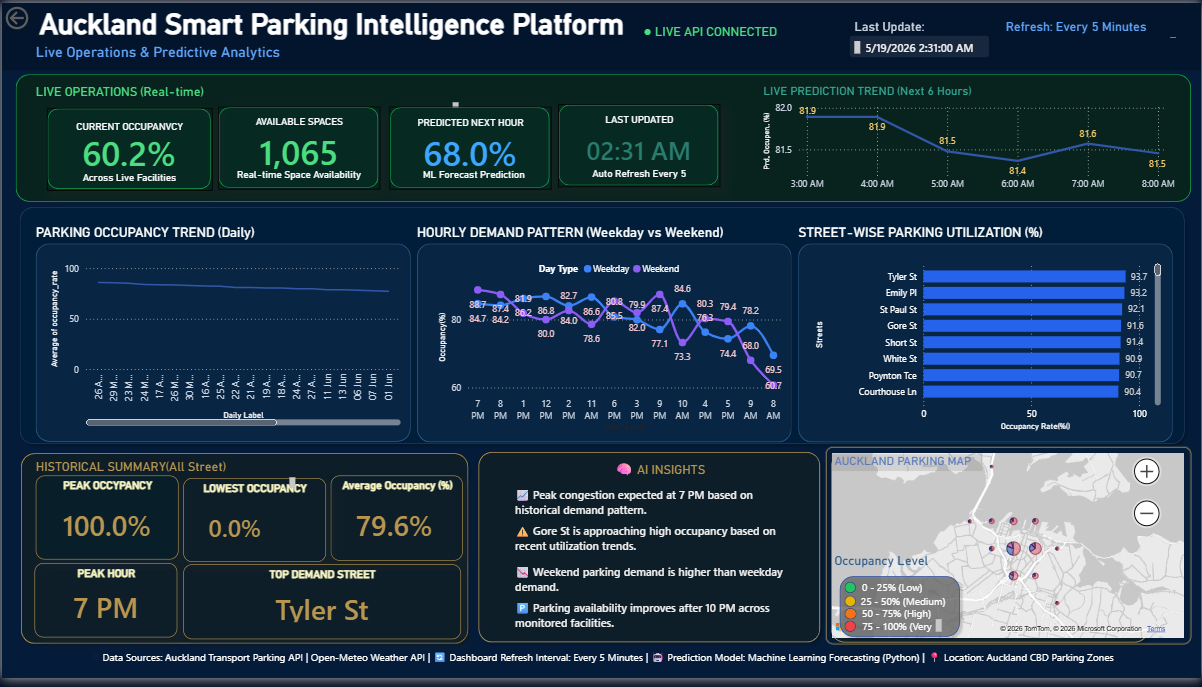

Layout of this report page (visuals, bound fields, positions):
{"tool":"powerbi","page":{"name":"Live ","canvas":[1600,900],"ordinal":0},"visuals":[{"type":"shape","box":[18.6,593.2,610.2,267.8],"z":0},{"type":"group","id":"g1","title":"Group 3","box":[1123.4,766.1,134.1,29.4],"z":0,"group":"g10"},{"type":"cardVisual","title":"Average Occupancy (%)","fields":{"Data":["parking_powerbi_dashboard.Average Occupancy (%)"]},"box":[439,630.5,176.3,113.6],"z":1000},{"type":"group","id":"g2","title":"Group 4","box":[1123.2,783.9,150.4,29.4],"z":1000,"group":"g10"},{"type":"cardVisual","title":"PEAK OCCYPANCY","fields":{"Data":["parking_powerbi_dashboard.Peak Occupancy (%)"]},"box":[44.6,630.1,190.4,112],"z":2000},{"type":"group","id":"g3","title":"Group 5","box":[1123.2,818,134.1,29.4],"z":2000,"group":"g10"},{"type":"cardVisual","title":"LOWEST OCCUPANCY","fields":{"Data":["parking_powerbi_dashboard.Lowest Occupancy (%)"]},"box":[241.8,632.9,190.2,112],"z":3000},{"type":"group","id":"g4","title":"Group 6","box":[1123.2,801.6,142.4,29.4],"z":3000,"group":"g10"},{"type":"shape","box":[17.5,94.7,1567,170],"z":4000},{"type":"textbox","title":"LIVE OPERATIONS (Real-time)","box":[40,108,574,43.1],"z":5000},{"type":"shape","box":[0,0,1600,90],"z":6000},{"type":"textbox","box":[2.2,859,1597.8,41.5],"z":7000},{"type":"textbox","title":"● LIVE API CONNECTED","box":[850.1,26.3,299.7,49.1],"z":8000},{"type":"cardVisual","fields":{"Data":["Min(parking_powerbi_dashboard.last_updated)"]},"box":[1113.1,26.3,220.9,63.1],"z":9000},{"type":"textbox","title":"Auckland Smart Parking Intelligence Platform","box":[1.9,5.6,876,48.8],"z":10000},{"type":"textbox","title":"Live Operations & Predictive Analytics","box":[40,54.4,390.2,28.1],"z":11000},{"type":"textbox","title":"Last Update:","box":[1132.3,21,164.8,26.3],"z":12000},{"type":"textbox","title":"Refresh: Every 5 Minutes","box":[1333.9,21,236.6,29.8],"z":13000},{"type":"actionButton","box":[0,0,100,40],"z":14000},{"type":"shape","box":[288.8,137.8,215.6,110.4],"z":15000},{"type":"cardVisual","title":"Current Occupancy","fields":{"Data":["parking_powerbi_dashboard.Live Available Spaces Display"]},"box":[292,145.3,208.2,101],"z":16000},{"type":"group","id":"g5","title":"Group 2","box":[59.6,140.1,220.5,110.3],"z":17000},{"type":"textbox","title":"Real-time Space Availability","box":[298.7,222.2,195.6,16],"z":18000},{"type":"group","id":"g6","title":"Group 2","box":[516,138.1,215.6,110.4],"z":19000},{"type":"textbox","title":"AVAILABLE SPACES","box":[311.4,150.4,169.4,22.4],"z":20000},{"type":"group","id":"g7","title":"Group 2","box":[741.7,135.4,215.3,111.2],"z":21000},{"type":"lineChart","title":"LIVE PREDICTION TREND (Next 6 Hours)","fields":{"Y":["Avg(parking_powerbi_dashboard.predicted_occupancy_rate)"],"Category":["parking_powerbi_dashboard.timestamp"]},"box":[1010.7,108,558.7,150.7],"z":22000},{"type":"shape","box":[17.5,264.5,1567.2,330.1],"z":23000},{"type":"shape","title":"PARKING OCCUPANCY TREND (Daily)","box":[45,295,500,290.2],"z":24000},{"type":"lineChart","fields":{"Category":["parking_powerbi_dashboard.Daily Label"],"Y":["Avg(parking_powerbi_dashboard.occupancy_rate)"]},"box":[60,340,476.7,228.3],"z":25000},{"type":"shape","title":"HOURLY DEMAND PATTERN (Weekday vs Weekend)","box":[553.9,294.5,499.6,291],"z":26000},{"type":"lineChart","fields":{"Y":["Avg(parking_powerbi_dashboard.occupancy_rate)"],"Series":["parking_powerbi_dashboard.Day Type"],"Category":["parking_powerbi_dashboard.Hour Label"]},"box":[576.2,335.7,470.2,240.5],"z":27000},{"type":"shape","title":"STREET-WISE PARKING UTILIZATION (%)","box":[1062.2,294.5,499.6,291],"z":28000},{"type":"shape","box":[741.7,135.4,215.6,110.4],"z":29000,"group":"g7"},{"type":"shape","box":[516,138.1,215.6,110.4],"z":29000,"group":"g6"},{"type":"shape","box":[59.6,140.1,220.5,110.3],"z":29000,"group":"g5"},{"type":"clusteredBarChart","fields":{"Y":["Avg(parking_powerbi_dashboard.occupancy_rate)"],"Category":["parking_powerbi_dashboard.street"]},"box":[1079.8,335.7,470.2,240.5],"z":29000},{"type":"shape","box":[1098.3,593.2,437.3,266.3],"z":29000,"group":"g8"},{"type":"group","id":"g8","title":"Group 1","box":[1098.3,593.2,437.3,267.8],"z":30000},{"type":"cardVisual","title":"Current Occupancy","fields":{"Data":["parking_powerbi_dashboard.Live Last Updated Display"]},"box":[744.9,143,208.2,101],"z":31000,"group":"g7"},{"type":"cardVisual","title":"Current Occupancy","fields":{"Data":["parking_powerbi_dashboard.Live Predicted Next Hour Display"]},"box":[519.2,145.7,208.2,101],"z":31000,"group":"g6"},{"type":"cardVisual","title":"Current Occupancy","fields":{"Data":["parking_powerbi_dashboard.Live Current Occupancy Display"]},"box":[62.9,147.6,212.9,100.9],"z":31000,"group":"g5"},{"type":"group","id":"g9","title":"Group 9","box":[1098.4,591.8,487.1,263.5],"z":31000},{"type":"map","fields":{"Y":["parking_powerbi_dashboard.lat"],"X":["parking_powerbi_dashboard.lon"],"Size":["Sum(parking_powerbi_dashboard.occupancy_rate)"],"Series":["parking_powerbi_dashboard.Demand Category All"]},"box":[1098.4,591.8,487.1,263.5],"z":31000,"group":"g9"},{"type":"slicer","fields":{"Values":["parking_powerbi_dashboard.Demand Category"]},"box":[1352.8,612.5,168.3,191.1],"z":31000,"group":"g8"},{"type":"textbox","title":"AUCKLAND PARKING MAP","box":[1105.5,601.2,202.4,22.4],"z":32000,"group":"g9"},{"type":"textbox","title":"HISTORICAL SUMMARY(All Street)","box":[40.2,607.9,356.1,43.2],"z":32000},{"type":"slicer","fields":{"Values":["parking_powerbi_dashboard.street"]},"box":[1116.6,611.3,216.9,231.3],"z":32000,"group":"g8"},{"type":"textbox","title":"Auto Refresh Every 5 Minutes","box":[764.3,220.5,169.4,14.3],"z":33000,"group":"g7"},{"type":"textbox","title":"ML Forecast Prediction","box":[535.6,221.7,184.9,19.6],"z":33000,"group":"g6"},{"type":"textbox","title":"Across Live Facilities","box":[82.7,225.1,173.3,14.3],"z":33000,"group":"g5"},{"type":"shape","title":"Occupancy Level","box":[1110.3,734.2,174.1,118.8],"z":33000,"group":"g11"},{"type":"cardVisual","title":"PEAK HOUR","fields":{"Data":["parking_powerbi_dashboard.Peak Hour Display"]},"box":[42.7,746.7,190.2,99.6],"z":33000},{"type":"cardVisual","title":"TOP DEMAND STREET","fields":{"Data":["parking_powerbi_dashboard.Top Demand Street"]},"box":[241.8,748.4,370,100],"z":34000},{"type":"shape","box":[1123.4,772,15.3,15.3],"z":34000,"group":"g1"},{"type":"shape","box":[1123.2,789.8,15.3,15.3],"z":34000,"group":"g2"},{"type":"shape","box":[628.8,591.5,469.5,267.8],"z":35000},{"type":"shape","box":[1123.2,807.5,16.2,15.3],"z":35000,"group":"g4"},{"type":"textbox","title":"LAST UPDATED","box":[764.3,148.1,169.4,22.4],"z":35001,"group":"g7"},{"type":"textbox","title":"PREDICTED NEXT HOUR","box":[538.6,150.8,169.4,22.4],"z":35001,"group":"g6"},{"type":"textbox","title":"CURRENT OCCUPANVCY","box":[74.7,157.4,190.5,20.8],"z":35001,"group":"g5"},{"type":"textbox","title":"🧠 AI INSIGHTS","box":[654.2,608.5,444.1,22],"z":36000},{"type":"shape","box":[1123.2,823.9,15.3,15.3],"z":36000,"group":"g3"},{"type":"cardVisual","fields":{"Data":["parking_powerbi_dashboard.AI Peak Congestion Insight"]},"box":[654.3,602.5,425.9,124.7],"z":37000},{"type":"cardVisual","fields":{"Data":["parking_powerbi_dashboard.AI Top Street Insight"]},"box":[654.3,650.6,425.9,125.9],"z":38000},{"type":"textbox","box":[1141,766.1,116.5,29.4],"z":38000,"group":"g1"},{"type":"textbox","box":[1140.7,783.9,132.9,29.4],"z":38000,"group":"g2"},{"type":"cardVisual","fields":{"Data":["parking_powerbi_dashboard.AI Weekend Insight"]},"box":[655.6,703.7,425.9,127.2],"z":39000},{"type":"textbox","box":[1141.9,801.6,123.6,29.4],"z":39000,"group":"g4"},{"type":"cardVisual","fields":{"Data":["parking_powerbi_dashboard.AI Availability Insight"]},"box":[654.3,755.6,407.4,119.8],"z":40000},{"type":"textbox","box":[1140.8,818,116.5,29.4],"z":40000,"group":"g3"},{"type":"group","id":"g10","title":"Group 7","box":[1123.2,766.1,150.6,81.2],"z":40004,"group":"g11"},{"type":"group","id":"g11","title":"Group 8","box":[1110.3,734.2,174.1,118.8],"z":40005,"group":"g9"}]}

Visuals, with their boxes in screenshot pixels (x1, y1, x2, y2), scaled from the page's 1600x900 canvas onto the 1202x687 screenshot:
shape: pyautogui.locateOnScreen(14, 453, 472, 657)
"Group 3" group: pyautogui.locateOnScreen(844, 585, 945, 607)
"Average Occupancy (%)" cardVisual: pyautogui.locateOnScreen(330, 481, 462, 568)
"Group 4" group: pyautogui.locateOnScreen(844, 598, 957, 621)
"PEAK OCCYPANCY" cardVisual: pyautogui.locateOnScreen(34, 481, 177, 566)
"Group 5" group: pyautogui.locateOnScreen(844, 624, 945, 647)
"LOWEST OCCUPANCY" cardVisual: pyautogui.locateOnScreen(182, 483, 325, 569)
"Group 6" group: pyautogui.locateOnScreen(844, 612, 951, 634)
shape: pyautogui.locateOnScreen(13, 72, 1190, 202)
"LIVE OPERATIONS (Real-time)" textbox: pyautogui.locateOnScreen(30, 82, 461, 115)
shape: pyautogui.locateOnScreen(0, 0, 1201, 69)
textbox: pyautogui.locateOnScreen(2, 656, 1201, 686)
"● LIVE API CONNECTED" textbox: pyautogui.locateOnScreen(639, 20, 864, 58)
cardVisual - Min(parking_powerbi_dashboard.last_updated): pyautogui.locateOnScreen(836, 20, 1002, 68)
"Auckland Smart Parking Intelligence Platform" textbox: pyautogui.locateOnScreen(1, 4, 660, 42)
"Live Operations & Predictive Analytics" textbox: pyautogui.locateOnScreen(30, 42, 323, 63)
"Last Update:" textbox: pyautogui.locateOnScreen(851, 16, 974, 36)
"Refresh: Every 5 Minutes" textbox: pyautogui.locateOnScreen(1002, 16, 1180, 39)
actionButton: pyautogui.locateOnScreen(0, 0, 75, 31)
shape: pyautogui.locateOnScreen(217, 105, 379, 189)
"Current Occupancy" cardVisual: pyautogui.locateOnScreen(219, 111, 376, 188)
"Group 2" group: pyautogui.locateOnScreen(45, 107, 210, 191)
"Real-time Space Availability" textbox: pyautogui.locateOnScreen(224, 170, 371, 182)
"Group 2" group: pyautogui.locateOnScreen(388, 105, 550, 190)
"AVAILABLE SPACES" textbox: pyautogui.locateOnScreen(234, 115, 361, 132)
"Group 2" group: pyautogui.locateOnScreen(557, 103, 719, 188)
"LIVE PREDICTION TREND (Next 6 Hours)" lineChart: pyautogui.locateOnScreen(759, 82, 1179, 197)
shape: pyautogui.locateOnScreen(13, 202, 1191, 454)
"PARKING OCCUPANCY TREND (Daily)" shape: pyautogui.locateOnScreen(34, 225, 409, 447)
lineChart - parking_powerbi_dashboard.Daily Label x Avg(parking_powerbi_dashboard.occupancy_rate): pyautogui.locateOnScreen(45, 260, 403, 434)
"HOURLY DEMAND PATTERN (Weekday vs Weekend)" shape: pyautogui.locateOnScreen(416, 225, 791, 447)
lineChart - Avg(parking_powerbi_dashboard.occupancy_rate) x parking_powerbi_dashboard.Day Type: pyautogui.locateOnScreen(433, 256, 786, 440)
"STREET-WISE PARKING UTILIZATION (%)" shape: pyautogui.locateOnScreen(798, 225, 1173, 447)
shape: pyautogui.locateOnScreen(557, 103, 719, 188)
shape: pyautogui.locateOnScreen(388, 105, 550, 190)
shape: pyautogui.locateOnScreen(45, 107, 210, 191)
clusteredBarChart - Avg(parking_powerbi_dashboard.occupancy_rate) x parking_powerbi_dashboard.street: pyautogui.locateOnScreen(811, 256, 1164, 440)
shape: pyautogui.locateOnScreen(825, 453, 1154, 656)
"Group 1" group: pyautogui.locateOnScreen(825, 453, 1154, 657)
"Current Occupancy" cardVisual: pyautogui.locateOnScreen(560, 109, 716, 186)
"Current Occupancy" cardVisual: pyautogui.locateOnScreen(390, 111, 546, 188)
"Current Occupancy" cardVisual: pyautogui.locateOnScreen(47, 113, 207, 190)
"Group 9" group: pyautogui.locateOnScreen(825, 452, 1191, 653)
map - parking_powerbi_dashboard.lat x parking_powerbi_dashboard.lon: pyautogui.locateOnScreen(825, 452, 1191, 653)
slicer - parking_powerbi_dashboard.Demand Category: pyautogui.locateOnScreen(1016, 468, 1143, 613)
"AUCKLAND PARKING MAP" textbox: pyautogui.locateOnScreen(831, 459, 983, 476)
"HISTORICAL SUMMARY(All Street)" textbox: pyautogui.locateOnScreen(30, 464, 298, 497)
slicer - parking_powerbi_dashboard.street: pyautogui.locateOnScreen(839, 467, 1002, 643)
"Auto Refresh Every 5 Minutes" textbox: pyautogui.locateOnScreen(574, 168, 701, 179)
"ML Forecast Prediction" textbox: pyautogui.locateOnScreen(402, 169, 541, 184)
"Across Live Facilities" textbox: pyautogui.locateOnScreen(62, 172, 192, 183)
"Occupancy Level" shape: pyautogui.locateOnScreen(834, 560, 965, 651)
"PEAK HOUR" cardVisual: pyautogui.locateOnScreen(32, 570, 175, 646)
"TOP DEMAND STREET" cardVisual: pyautogui.locateOnScreen(182, 571, 460, 648)
shape: pyautogui.locateOnScreen(844, 589, 855, 601)
shape: pyautogui.locateOnScreen(844, 603, 855, 615)
shape: pyautogui.locateOnScreen(472, 452, 825, 656)
shape: pyautogui.locateOnScreen(844, 616, 856, 628)
"LAST UPDATED" textbox: pyautogui.locateOnScreen(574, 113, 701, 130)
"PREDICTED NEXT HOUR" textbox: pyautogui.locateOnScreen(405, 115, 532, 132)
"CURRENT OCCUPANVCY" textbox: pyautogui.locateOnScreen(56, 120, 199, 136)
"🧠 AI INSIGHTS" textbox: pyautogui.locateOnScreen(491, 464, 825, 481)
shape: pyautogui.locateOnScreen(844, 629, 855, 641)
cardVisual - parking_powerbi_dashboard.AI Peak Congestion Insight: pyautogui.locateOnScreen(492, 460, 812, 555)
cardVisual - parking_powerbi_dashboard.AI Top Street Insight: pyautogui.locateOnScreen(492, 497, 812, 593)
textbox: pyautogui.locateOnScreen(857, 585, 945, 607)
textbox: pyautogui.locateOnScreen(857, 598, 957, 621)
cardVisual - parking_powerbi_dashboard.AI Weekend Insight: pyautogui.locateOnScreen(493, 537, 812, 634)
textbox: pyautogui.locateOnScreen(858, 612, 951, 634)
cardVisual - parking_powerbi_dashboard.AI Availability Insight: pyautogui.locateOnScreen(492, 577, 798, 668)
textbox: pyautogui.locateOnScreen(857, 624, 945, 647)
"Group 7" group: pyautogui.locateOnScreen(844, 585, 957, 647)
"Group 8" group: pyautogui.locateOnScreen(834, 560, 965, 651)
